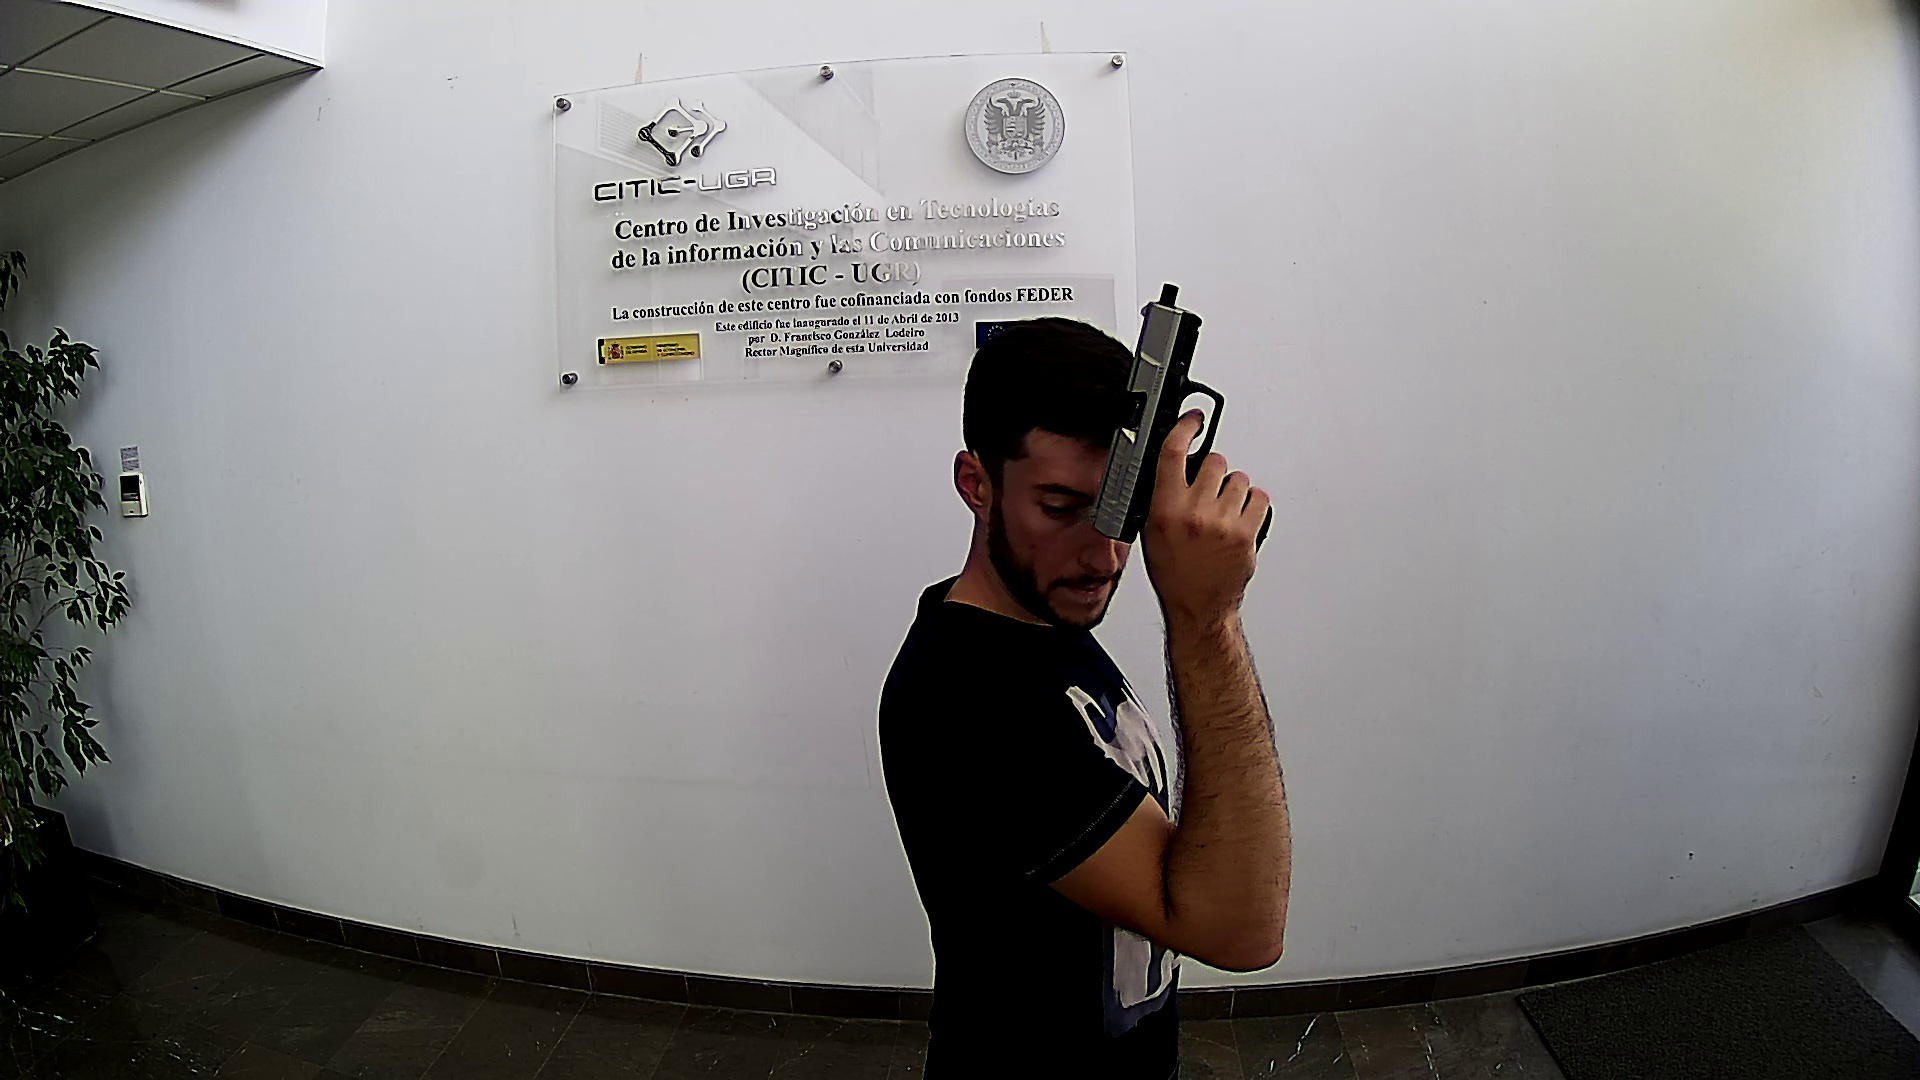pistol: (1088, 281, 1274, 558)
